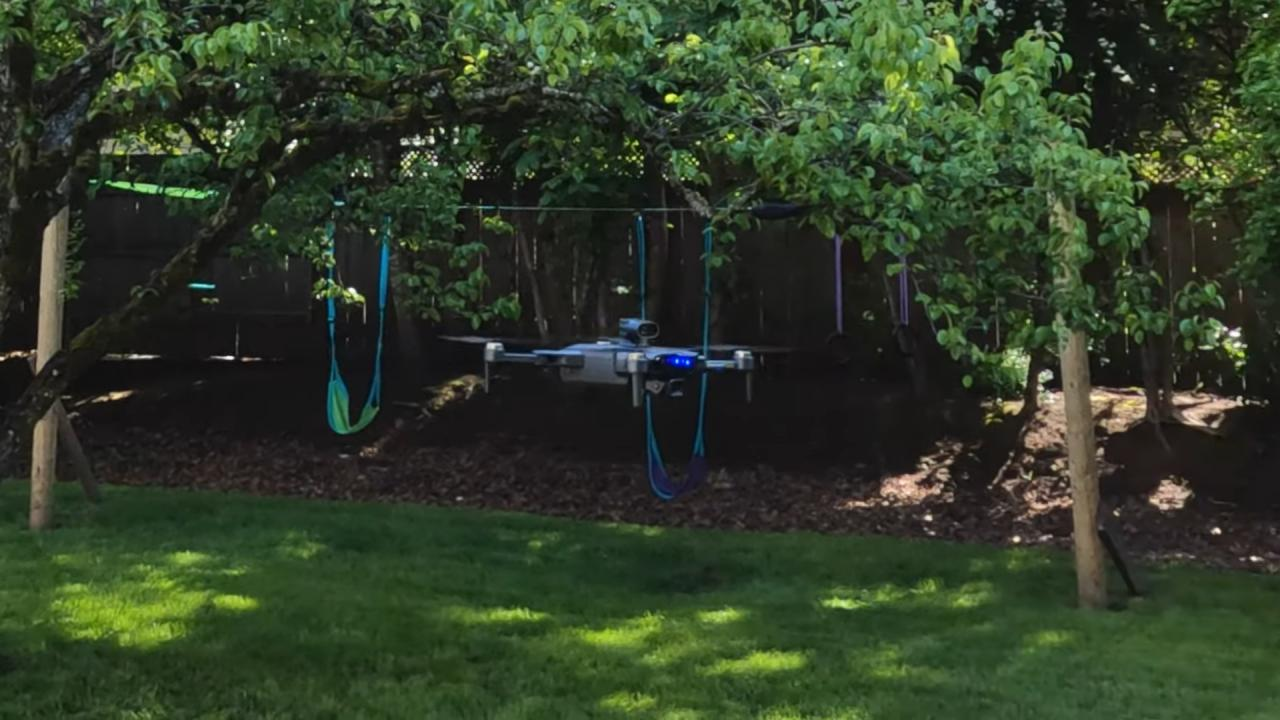Drone: (432, 309, 802, 397)
